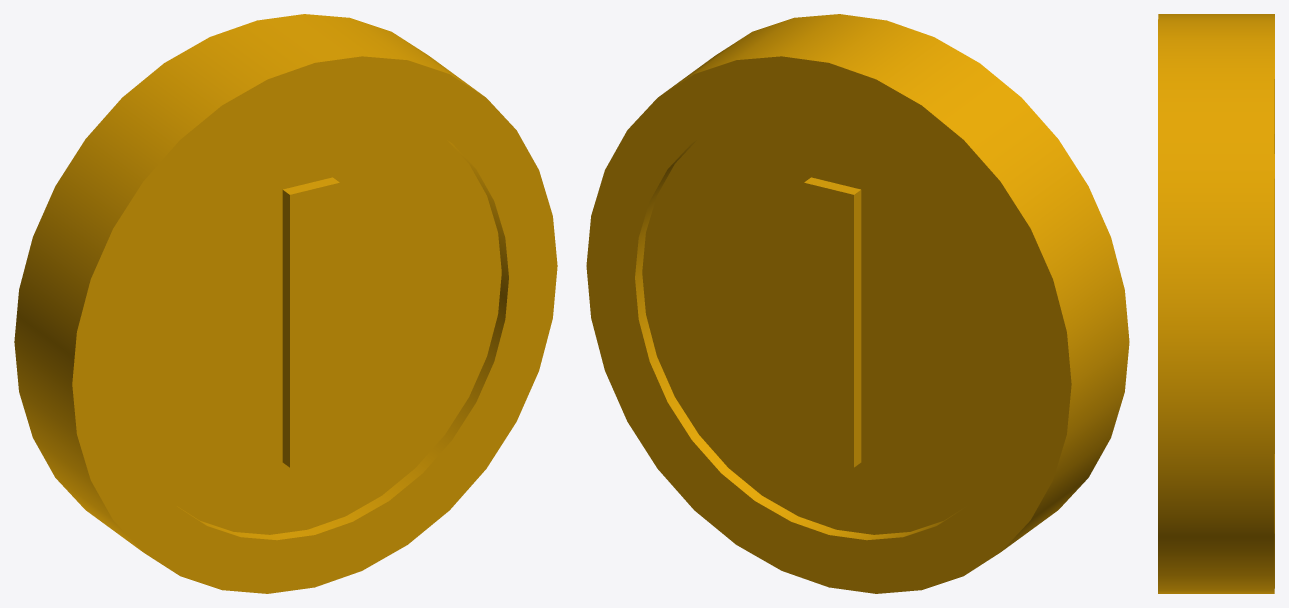
Rendered from coin.glb.
3 renders of one model, left to right at view 1: azimuth 30°, elevation 25°; view 2: azimuth 150°, elevation 25°; view 3: azimuth 270°, elevation 25°, orthographic.
Parts seen in each view (by area): view 1: CoinObj; view 2: CoinObj; view 3: CoinObj.
Boxes of the visible parts, bbox=[...] form: CoinObj: bbox=[14, 14, 557, 593]; CoinObj: bbox=[586, 14, 1129, 593]; CoinObj: bbox=[1158, 14, 1274, 593].
Bounding box in the file's own units: 2.72 × 2.81 × 0.5632.
